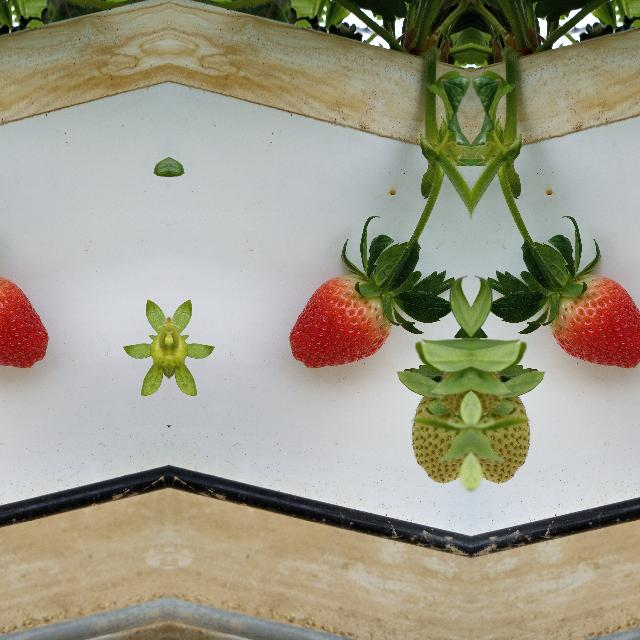Health_100: (287, 274, 393, 368), (548, 274, 640, 367), (0, 274, 49, 367)
Health_25: (471, 346, 532, 488), (410, 346, 470, 488)
